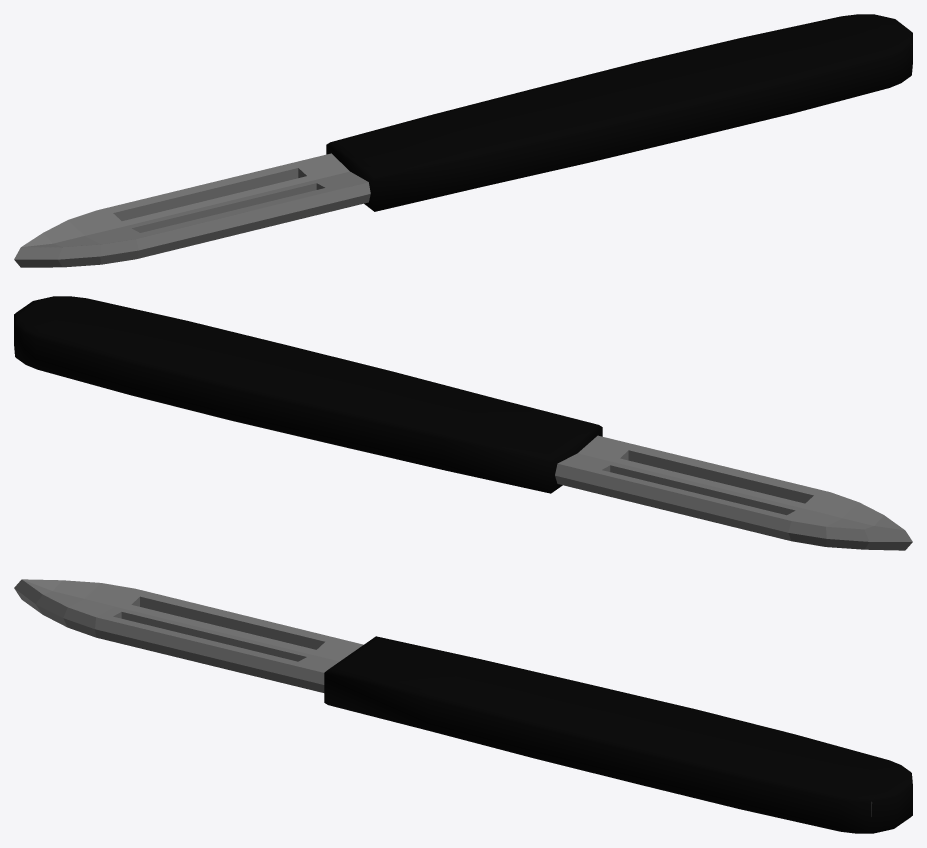
File: peeler.fbx
3 views of the same model, one above another, from view 1: azimuth 30°, elevation 25°; view 2: azimuth 150°, elevation 25°; view 3: azimuth 330°, elevation 25° (orthographic).
Parts seen in each view (by area): view 1: Cube.001; view 2: Cube.001; view 3: Cube.001.
Boxes of the visible parts, x1,y1,x2,y2 form: Cube.001: (14, 14, 912, 267); Cube.001: (14, 296, 912, 550); Cube.001: (14, 579, 912, 833).
Size of the model in its own units: 467 by 19.02 by 52.67.
1 material, 1 textured.
